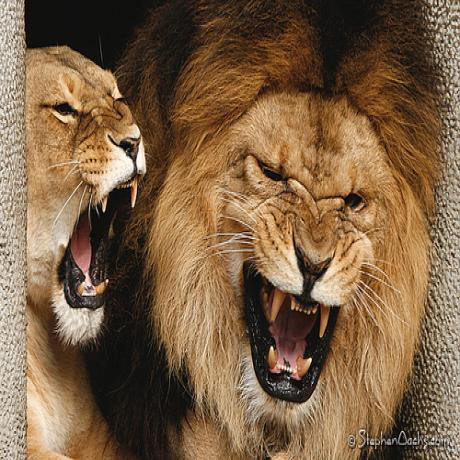Lion: (134, 0, 446, 460), (27, 45, 148, 460)
